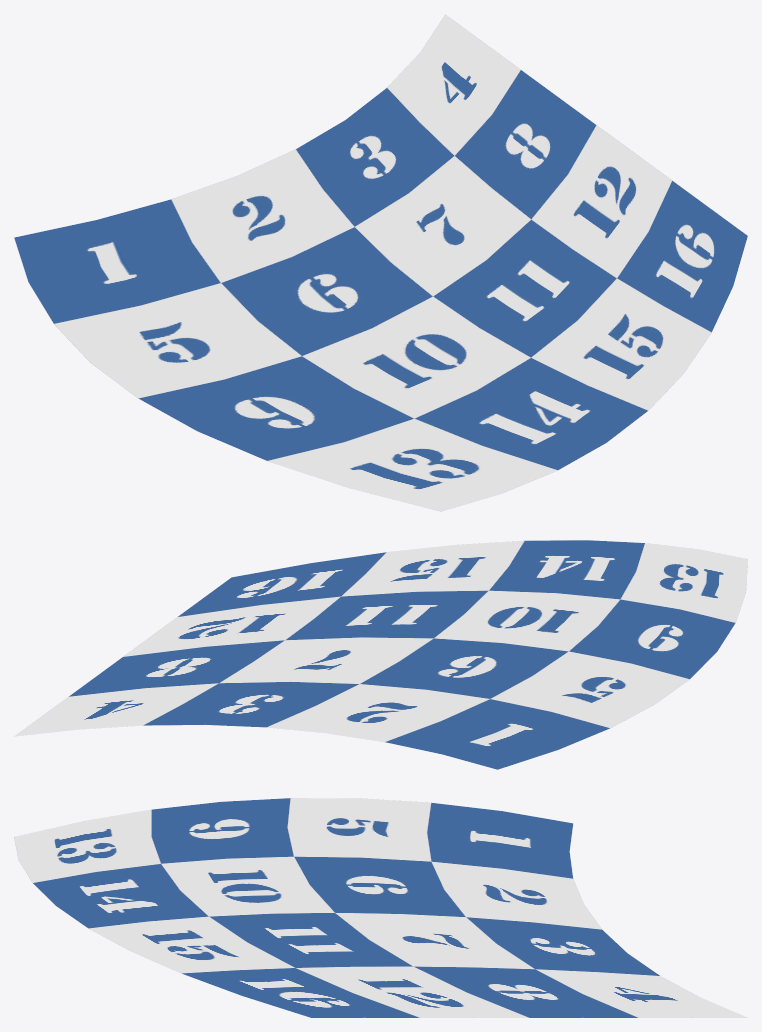
The model's file is Hi_Spl_GroundFlame.fbx.
The picture shows the model from 3 angles, top to bottom: view 1: azimuth 30°, elevation 25°; view 2: azimuth 150°, elevation 25°; view 3: azimuth 270°, elevation 25°; orthographic projection. The views are drawn at different scales.
Visible parts, largest first — view 1: SM_d_e_P0001_V00_C00_SplHkr_c050_GroundFlame_01; view 2: SM_d_e_P0001_V00_C00_SplHkr_c050_GroundFlame_01; view 3: SM_d_e_P0001_V00_C00_SplHkr_c050_GroundFlame_01.
Part boxes in pixels (left/top/right/bottom): SM_d_e_P0001_V00_C00_SplHkr_c050_GroundFlame_01: left=14, top=14, right=747, bottom=511; SM_d_e_P0001_V00_C00_SplHkr_c050_GroundFlame_01: left=14, top=540, right=747, bottom=769; SM_d_e_P0001_V00_C00_SplHkr_c050_GroundFlame_01: left=14, top=798, right=747, bottom=1017.
Size of the model in its own units: 119 by 2.06e-14 by 168.
